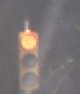Red: (16, 29, 41, 92)
